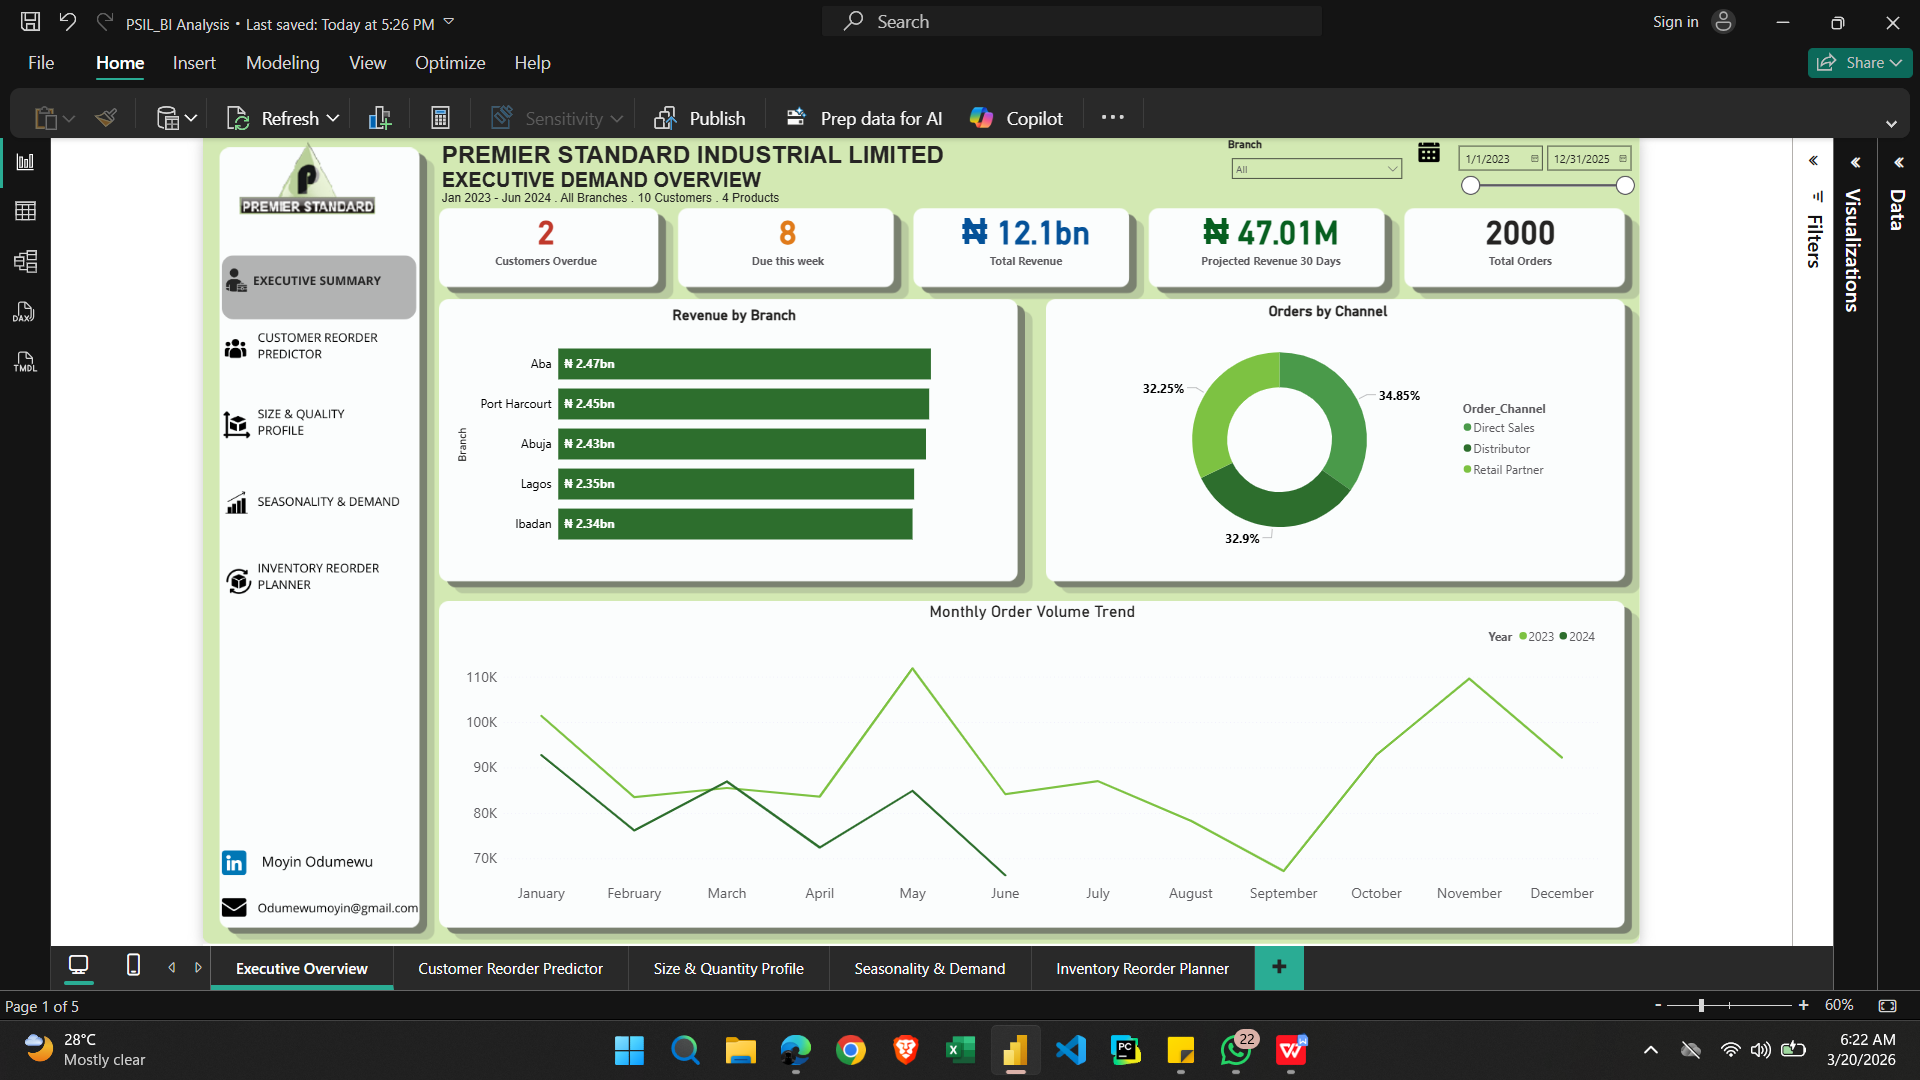

This screenshot's page, from the dashboard's own definition file:
{"tool":"powerbi","page":{"name":"Executive Overview","canvas":[1920,1080],"ordinal":0},"visuals":[{"type":"card","fields":{"Values":["Table.Customers Overdue"]},"box":[334,80.1,248.8,103.5],"z":0},{"type":"clusteredBarChart","title":"Revenue by Branch","fields":{"Category":["FactOrders.Branch"],"Y":["Table.Total Revenue"]},"box":[334,225.4,751.4,339],"z":1000},{"type":"card","fields":{"Values":["Table.Customers Due in 7 Days"]},"box":[657.9,80.1,247.1,103.5],"z":2000},{"type":"lineChart","title":"Monthly Order Volume Trend","fields":{"Category":["DimDate.MonthName"],"Series":["DimDate.Year"],"Y":["Table.Total Units"]},"box":[345.6,619.5,1524.5,412.4],"z":3000},{"type":"card","fields":{"Values":["Table.Total Orders"]},"box":[1649.7,80.1,220.4,103.5],"z":4000},{"type":"donutChart","title":"Orders by Channel","fields":{"Category":["FactOrders.Order_Channel"],"Y":["Table.Total Orders"]},"box":[1188.9,220.4,627.8,344],"z":5000},{"type":"card","fields":{"Values":["Table.Total Revenue"]},"box":[975.1,80.1,248.8,103.5],"z":6000},{"type":"slicer","fields":{"Values":["DimDate.Date"]},"box":[1664,0,256,80],"z":7000},{"type":"card","fields":{"Values":["Table.Projected Revenue 30 Days"]},"box":[1302.4,80.1,248.8,103.5],"z":8000},{"type":"textbox","box":[314,0,809.3,102.9],"z":9000},{"type":"slicer","title":"Branch","fields":{"Values":["FactOrders.Branch"]},"box":[1364,0,247.7,80.2],"z":10000}]}

Visuals, with their boxes on the page's 1920x1080 design canvas (x1, y1, x2, y2). These are canvas units, not pixel positions in the 1920x1080 screenshot, which may show the page scaled, cropped or inside an application window:
card - Table.Customers Overdue: {"x1": 334, "y1": 80, "x2": 583, "y2": 184}
"Revenue by Branch" clusteredBarChart: {"x1": 334, "y1": 225, "x2": 1085, "y2": 564}
card - Table.Customers Due in 7 Days: {"x1": 658, "y1": 80, "x2": 905, "y2": 184}
"Monthly Order Volume Trend" lineChart: {"x1": 346, "y1": 620, "x2": 1870, "y2": 1032}
card - Table.Total Orders: {"x1": 1650, "y1": 80, "x2": 1870, "y2": 184}
"Orders by Channel" donutChart: {"x1": 1189, "y1": 220, "x2": 1817, "y2": 564}
card - Table.Total Revenue: {"x1": 975, "y1": 80, "x2": 1224, "y2": 184}
slicer - DimDate.Date: {"x1": 1664, "y1": 0, "x2": 1920, "y2": 80}
card - Table.Projected Revenue 30 Days: {"x1": 1302, "y1": 80, "x2": 1551, "y2": 184}
textbox: {"x1": 314, "y1": 0, "x2": 1123, "y2": 103}
"Branch" slicer: {"x1": 1364, "y1": 0, "x2": 1612, "y2": 80}
